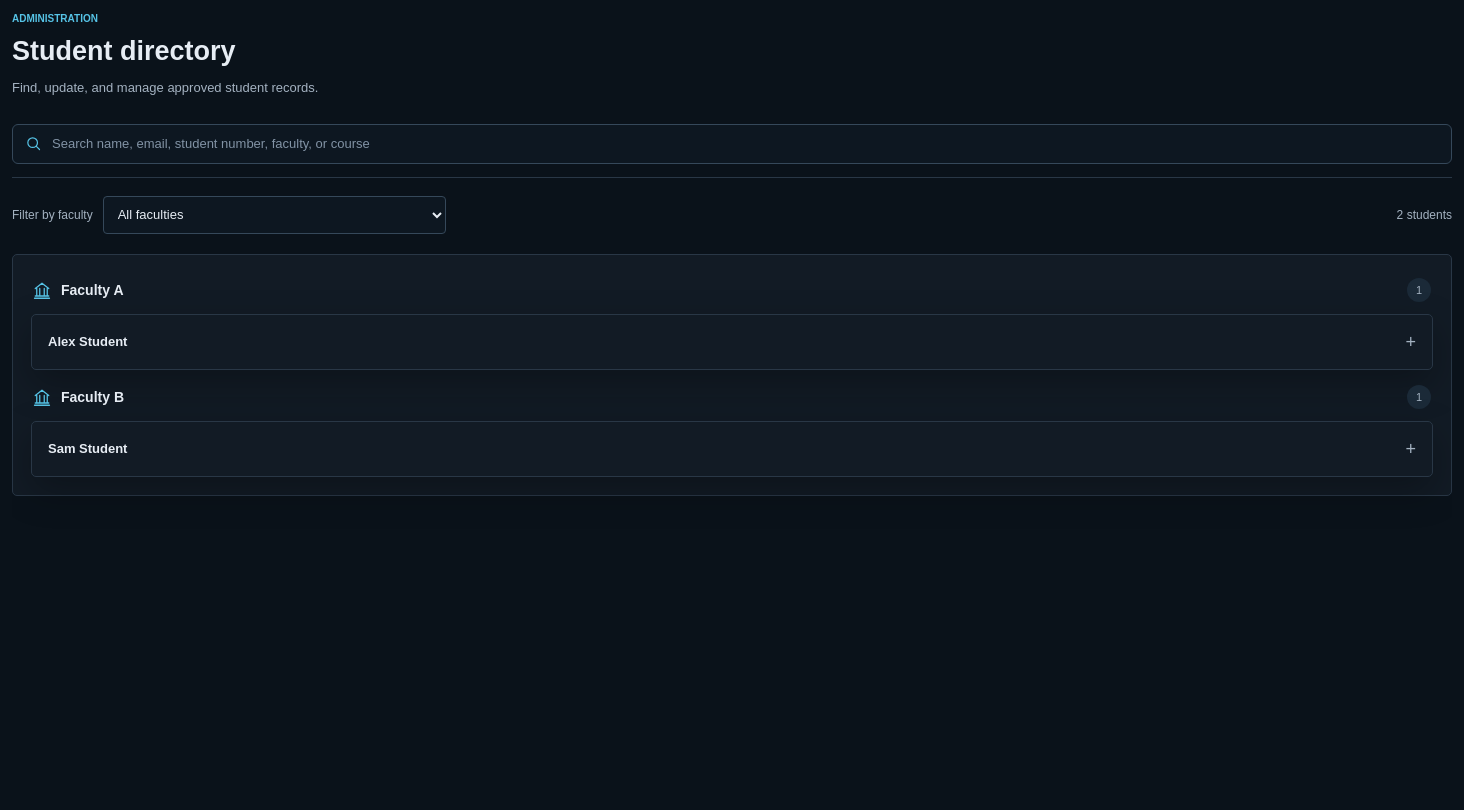
Test case: admin groups student records by faculty and filters the directory
Check: the heading "Faculty A" is shown, box [61,282,124,298]
Check: the heading "Faculty B" is shown, box [61,389,124,405]
Click the button "Alex Student +" at (88, 342), box [48,331,1416,353]
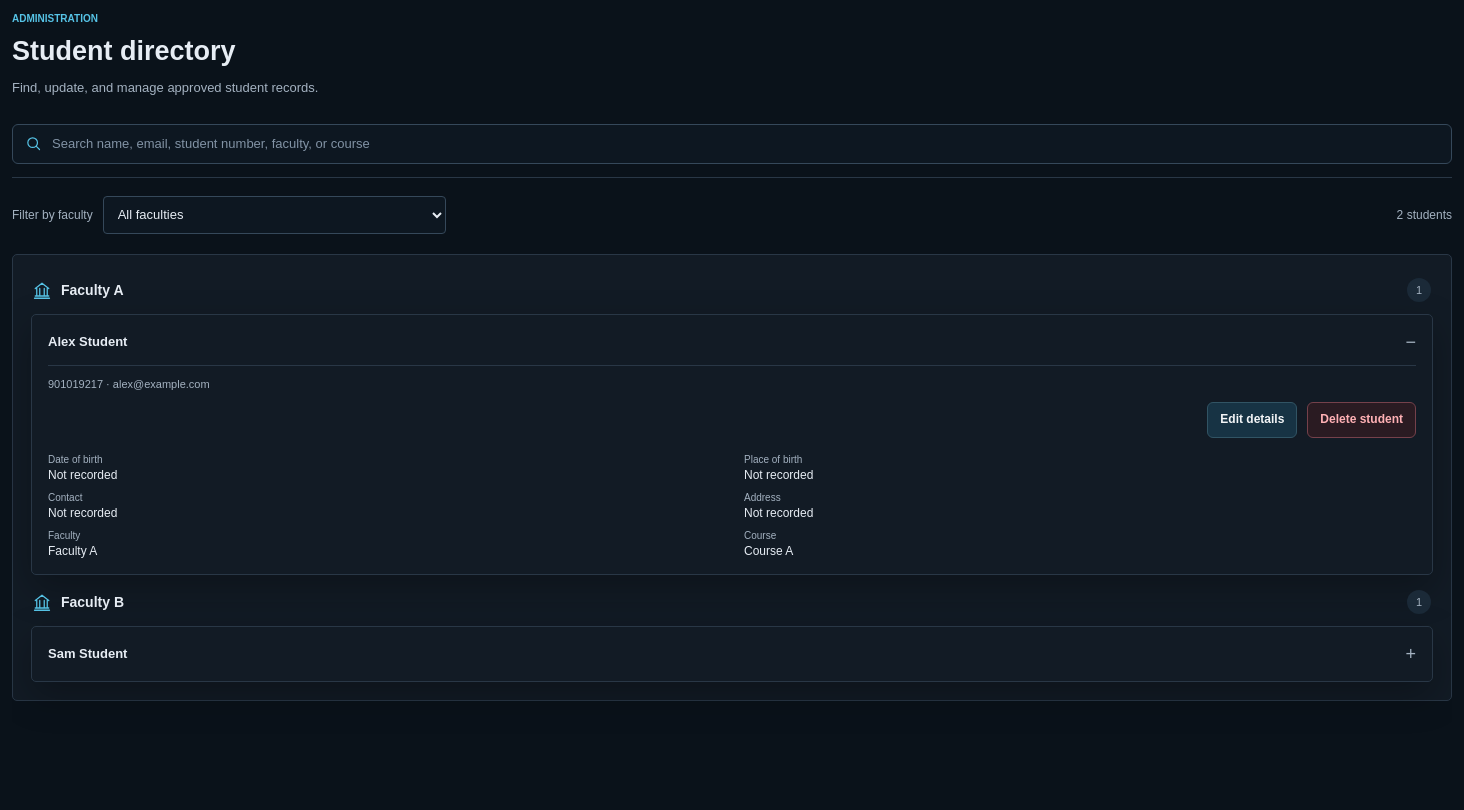
Check: the text "901019217 · alex@example.com" is shown, box [48,378,210,390]
Select "Faculty B" in the dropdown labelled "Filter by faculty" at (274, 215), box [103,196,446,234]
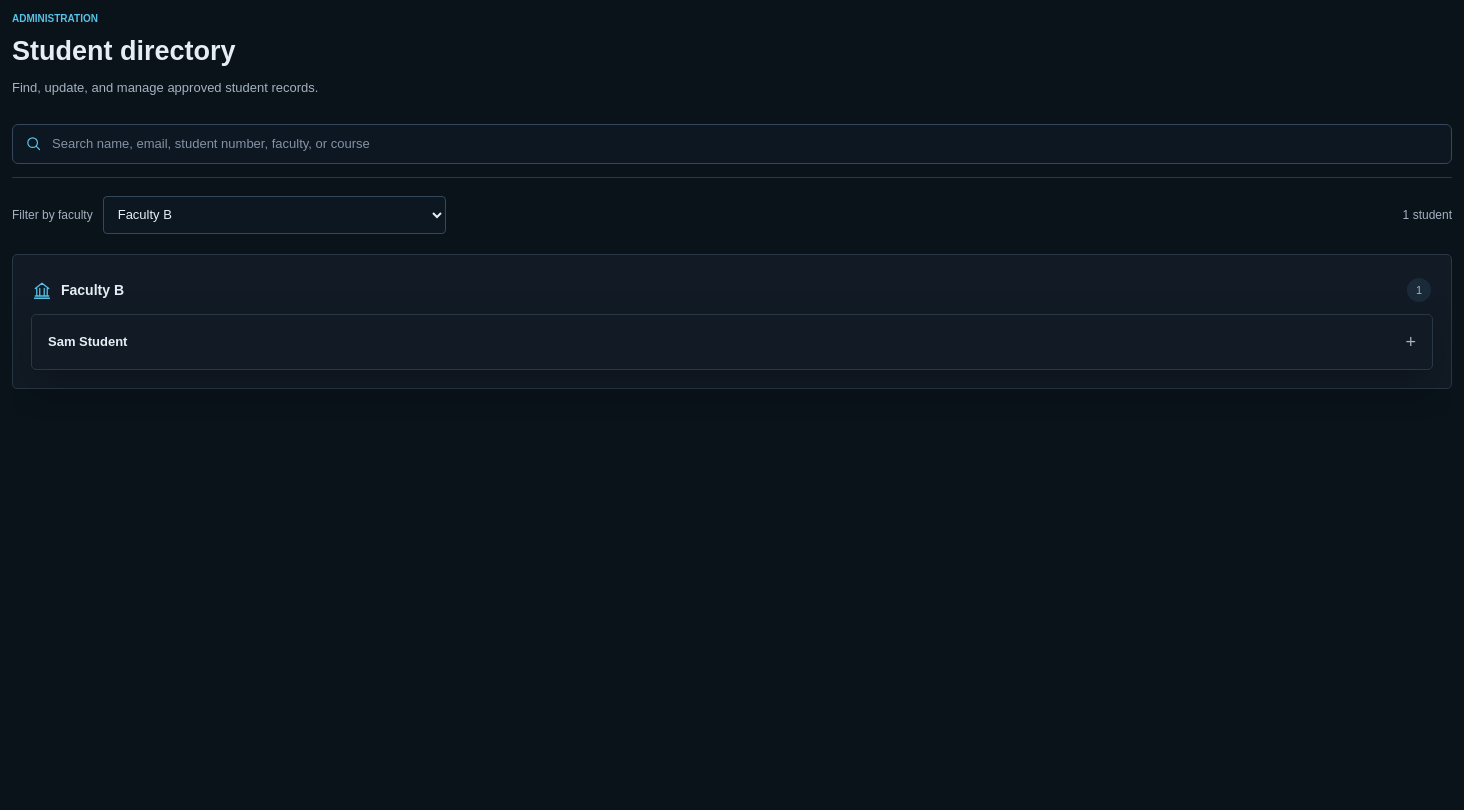
Check: the text "Sam Student" is shown, box [48,334,128,349]
Check: the button "Alex Student" is gone
